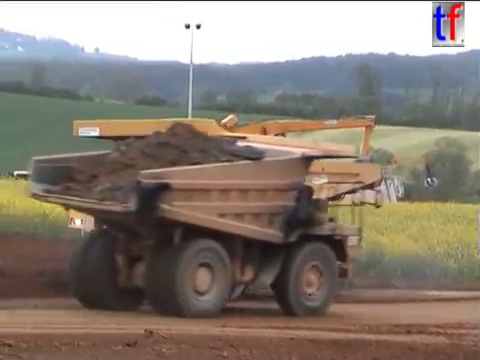excavator: (59, 110, 383, 266)
truck: (25, 116, 387, 320)
